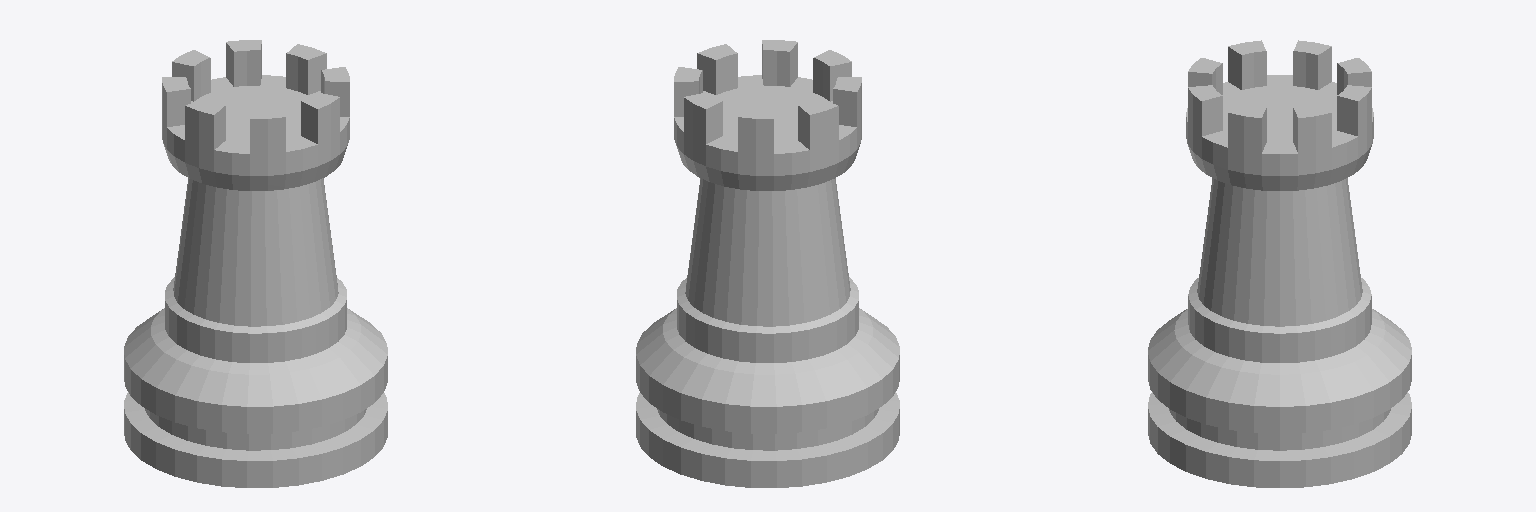
File: Rook_White.obj
3 renders of one model, left to right at view 1: azimuth 30°, elevation 25°; view 2: azimuth 150°, elevation 25°; view 3: azimuth 270°, elevation 25°, orthographic.
Parts seen in each view (by area): view 1: ChessRook.001; view 2: ChessRook.001; view 3: ChessRook.001.
Boxes of the visible parts, x1,y1,x2,y2 form: ChessRook.001: [124, 40, 387, 487]; ChessRook.001: [636, 40, 899, 487]; ChessRook.001: [1148, 40, 1411, 487].
Size of the model in its own units: 1.45 by 2.13 by 1.45.